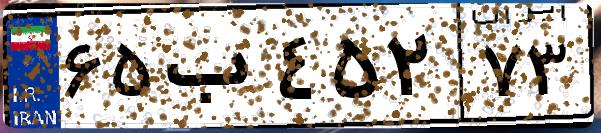2: (385, 28, 445, 110)
3: (525, 38, 570, 115)
4: (270, 28, 330, 110)
5: (330, 28, 385, 110), (110, 28, 158, 98)
6: (57, 26, 110, 100)
7: (475, 38, 525, 113)
ب: (158, 20, 270, 120)
